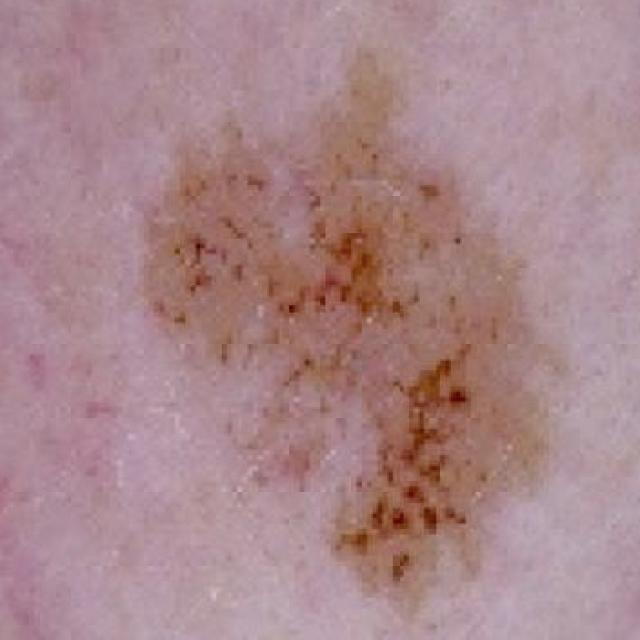MEL: (153, 104, 565, 604)
